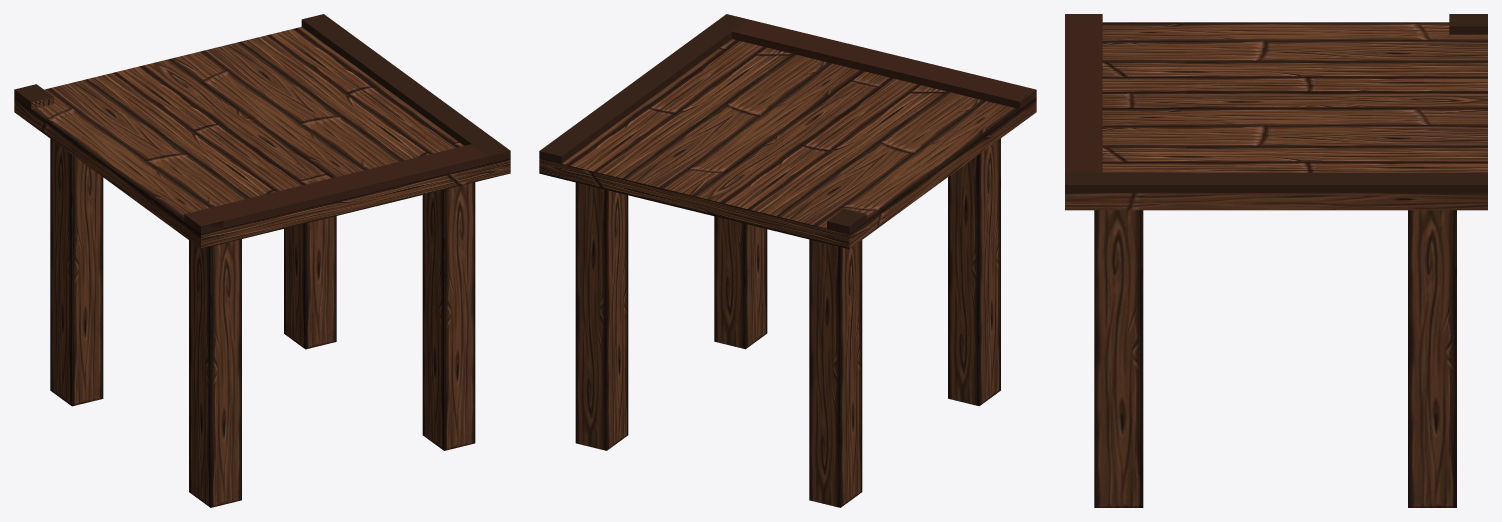
Rendered from Harbor Floor 2.fbx.
3 renders of one model, left to right at view 1: azimuth 30°, elevation 25°; view 2: azimuth 150°, elevation 25°; view 3: azimuth 270°, elevation 25°, orthographic. The views are drawn at different scales.
Parts seen in each view (by area): view 1: pasted__polySurface5; view 2: pasted__polySurface5; view 3: pasted__polySurface5.
Part boxes in pixels (left/top/right/bottom): pasted__polySurface5: left=14, top=14, right=510, bottom=507; pasted__polySurface5: left=539, top=14, right=1036, bottom=507; pasted__polySurface5: left=1065, top=14, right=1487, bottom=507.
Bounding box in the file's own units: 6.98 × 6.39 × 7.3.
Materials: 1 (1 with a texture image).
